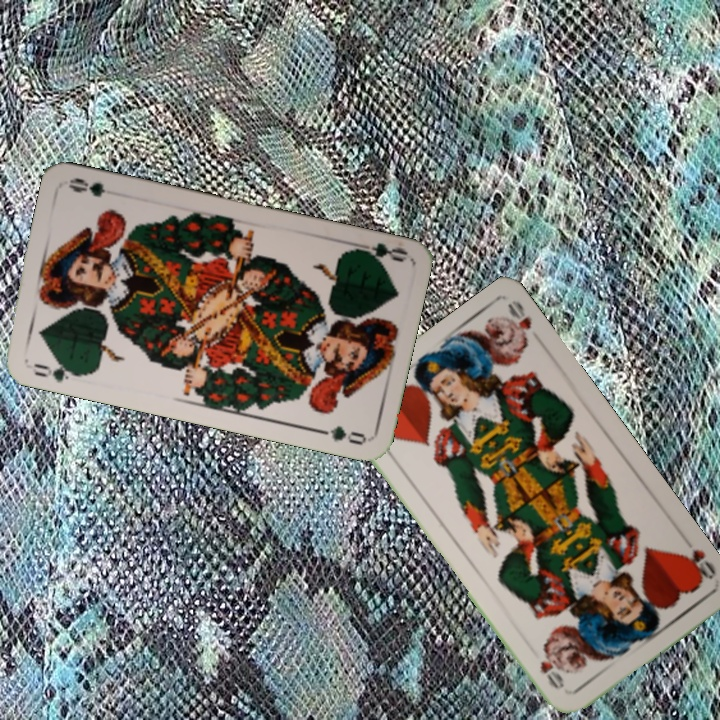GO: (348, 238, 408, 267), (29, 357, 84, 385)
HO: (677, 545, 719, 586)
